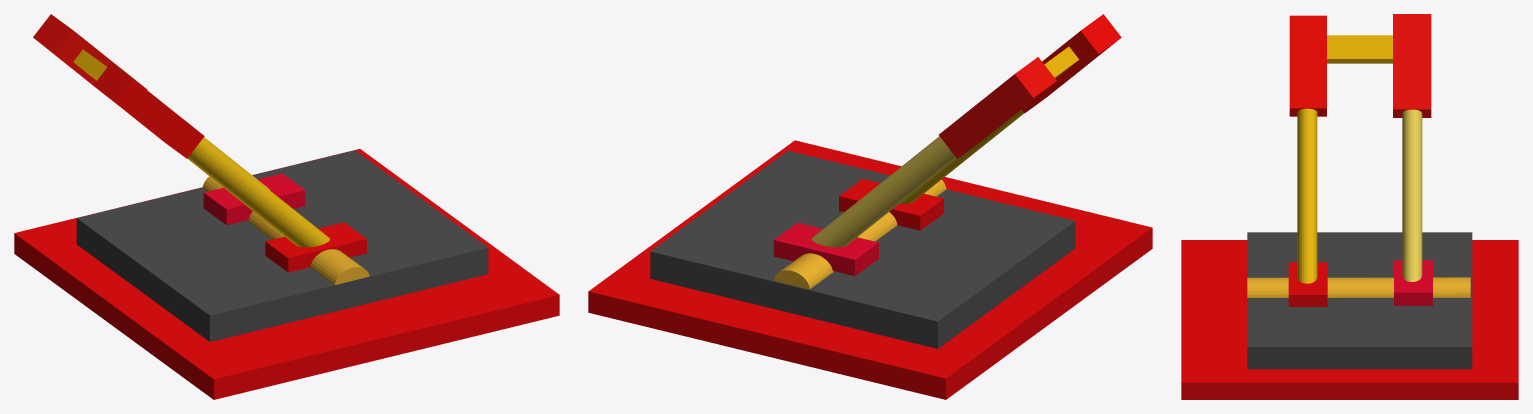
File: Tuas.fbx
3 renders of one model, left to right at view 1: azimuth 30°, elevation 25°; view 2: azimuth 150°, elevation 25°; view 3: azimuth 270°, elevation 25°, orthographic. The views are drawn at different scales.
Parts seen in each view (by area): view 1: Cube.001_Cube.004, Cube.001, Cube.004_Cube.007, Cube.003_Cube.006, Cube.002_Cube.005, Cylinder; view 2: Cube.001_Cube.004, Cube.001, Cube.004_Cube.007, Cube.002_Cube.005, Cylinder, Cube.003_Cube.006; view 3: Cube.001, Cube.001_Cube.004, Cube.004_Cube.007, Cylinder, Cube.003_Cube.006, Cube.002_Cube.005.
Boxes of the visible parts, x1,y1,x2,y2 form: Cube.001_Cube.004: (76, 150, 488, 341); Cube.001: (14, 149, 559, 399); Cube.004_Cube.007: (33, 14, 329, 247); Cube.003_Cube.006: (265, 222, 366, 272); Cube.002_Cube.005: (203, 173, 305, 225); Cylinder: (202, 176, 369, 284); Cube.001_Cube.004: (650, 150, 1075, 348); Cube.001: (588, 140, 1152, 399); Cube.004_Cube.007: (812, 14, 1121, 247); Cube.002_Cube.005: (773, 222, 878, 276); Cylinder: (773, 179, 946, 289); Cube.003_Cube.006: (839, 179, 943, 230); Cube.001: (1181, 240, 1518, 399); Cube.001_Cube.004: (1247, 232, 1472, 369); Cube.004_Cube.007: (1289, 14, 1431, 283); Cylinder: (1247, 277, 1470, 297); Cube.003_Cube.006: (1288, 262, 1327, 306); Cube.002_Cube.005: (1394, 260, 1432, 305).
Bounding box in the file's own units: 220 × 155 × 200.
